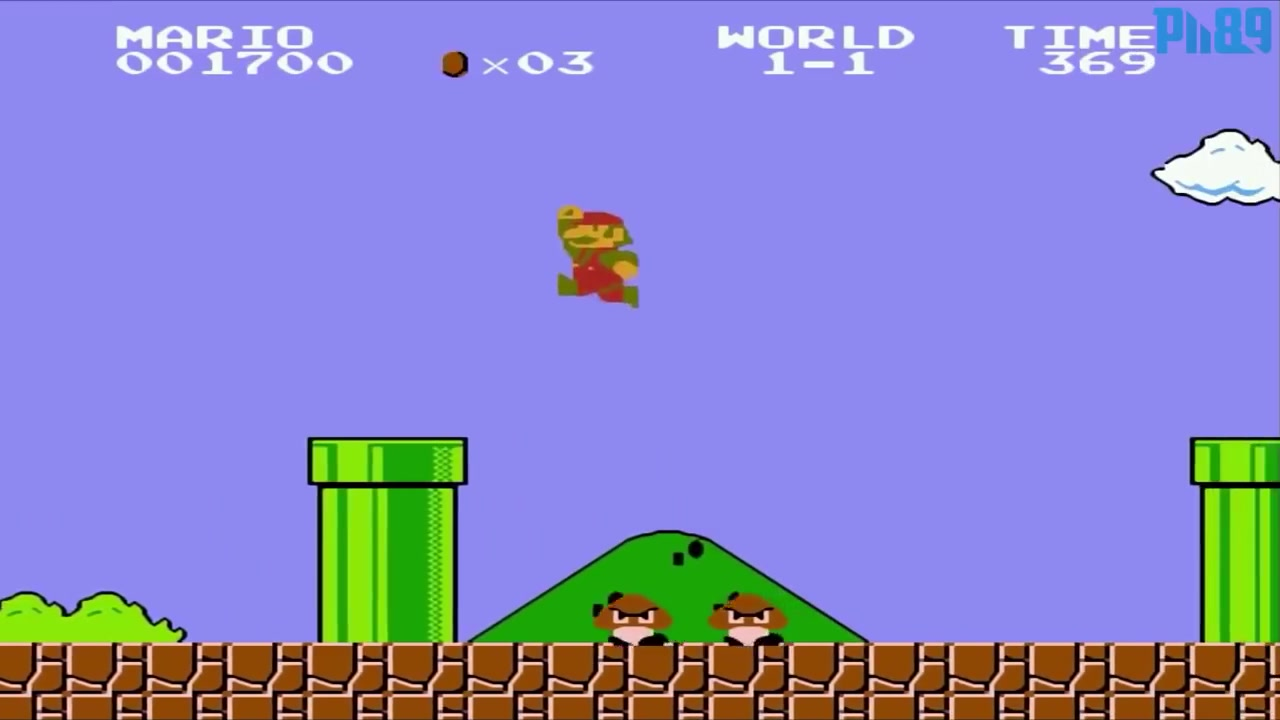mario: (541, 201, 652, 316)
